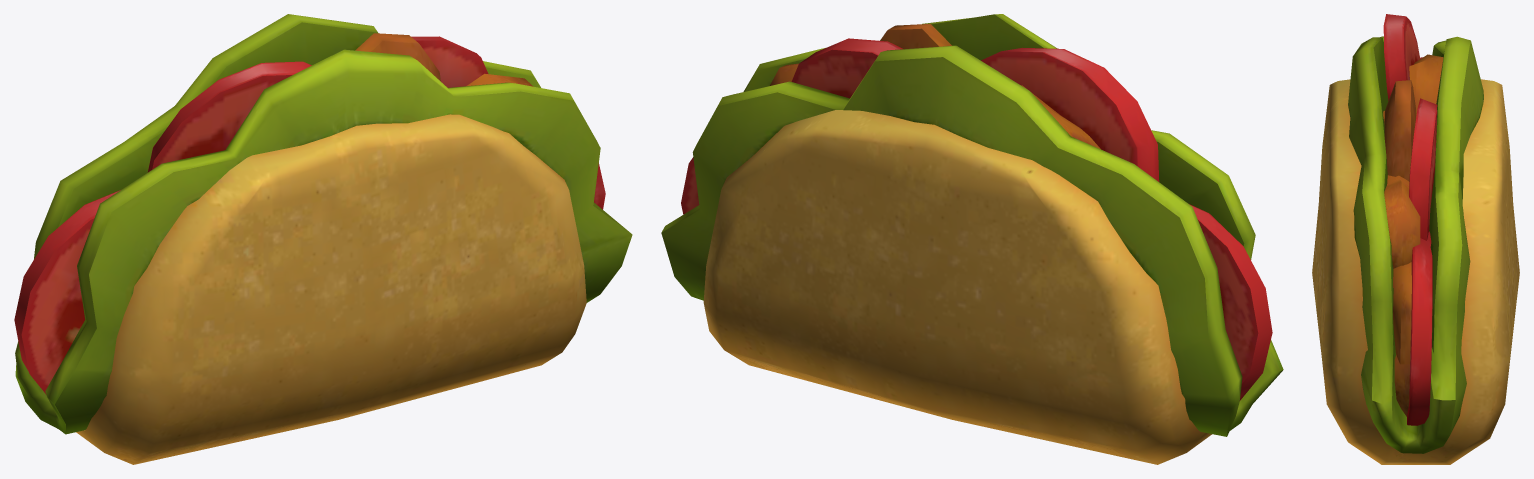
The model's file is 0-taco.fbx.
3 views of the same model, side by side, from view 1: azimuth 30°, elevation 25°; view 2: azimuth 150°, elevation 25°; view 3: azimuth 270°, elevation 25° (orthographic). The views are drawn at different scales.
Visible parts, largest first — view 1: 0-taco; view 2: 0-taco; view 3: 0-taco.
Boxes of the visible parts, <box> form: 0-taco: <box>14,14,632,464</box>; 0-taco: <box>661,14,1283,464</box>; 0-taco: <box>1312,14,1519,464</box>.
Size of the model in its own units: 88.92 by 53.69 by 30.29.
